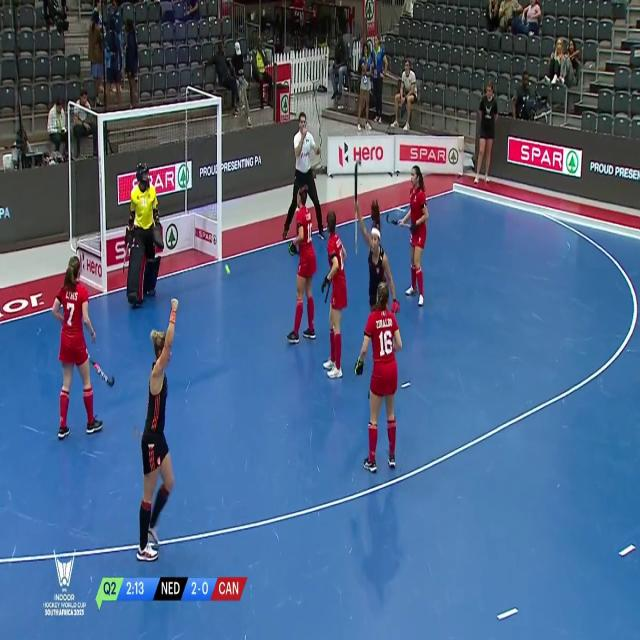ball: (221, 260, 236, 286)
